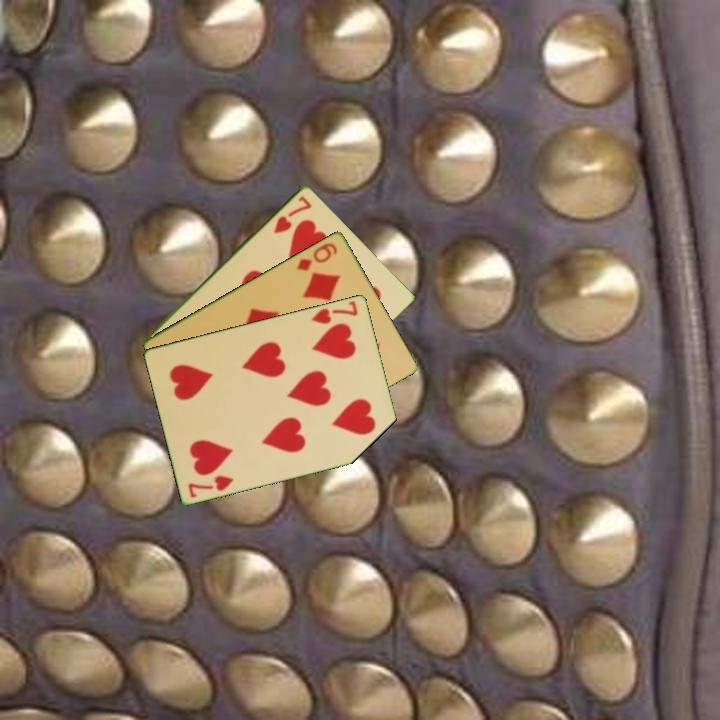6d: (293, 239, 341, 273)
7h: (270, 192, 315, 236), (308, 297, 361, 327), (185, 471, 237, 500)
